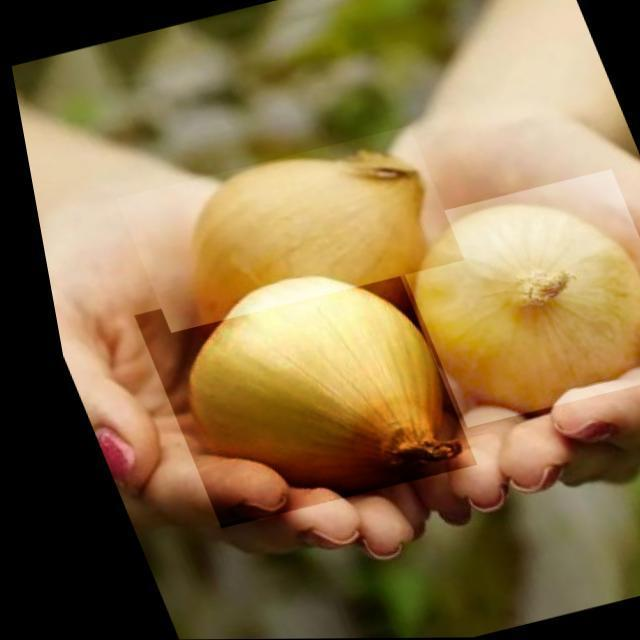Onion: (114, 252, 468, 528), (98, 125, 464, 333), (368, 169, 640, 428)
